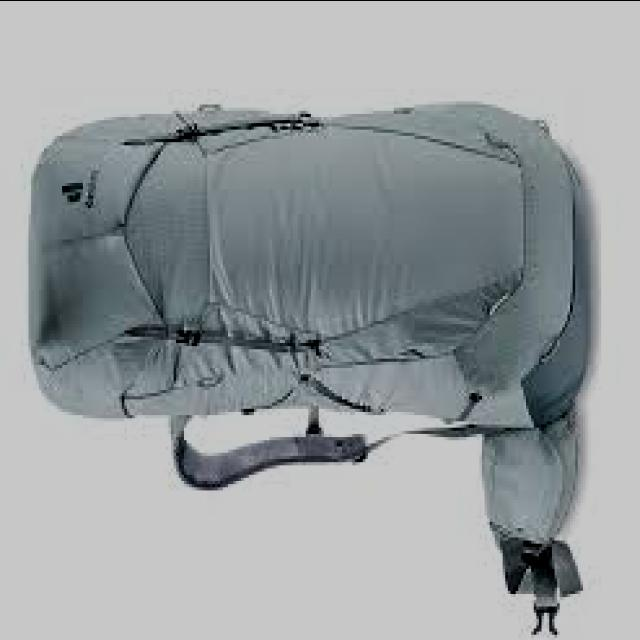backpack: (27, 102, 589, 638)
